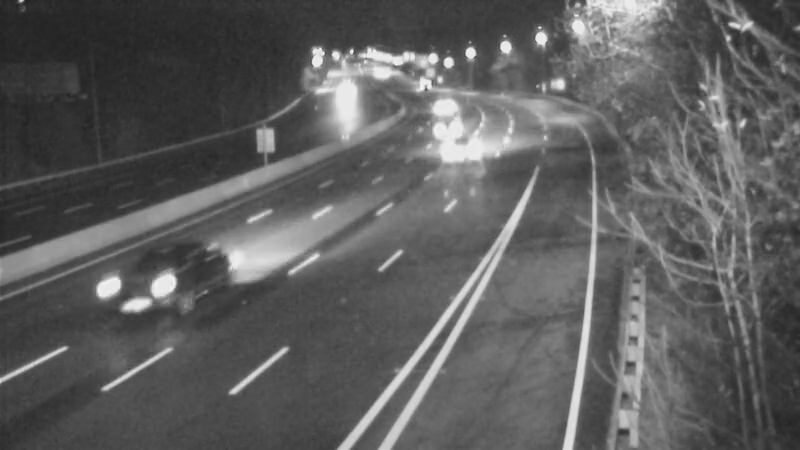vehicle: (114, 244, 194, 324), (397, 57, 447, 107), (419, 83, 469, 133), (424, 104, 474, 154), (435, 122, 485, 172), (318, 72, 368, 122)
